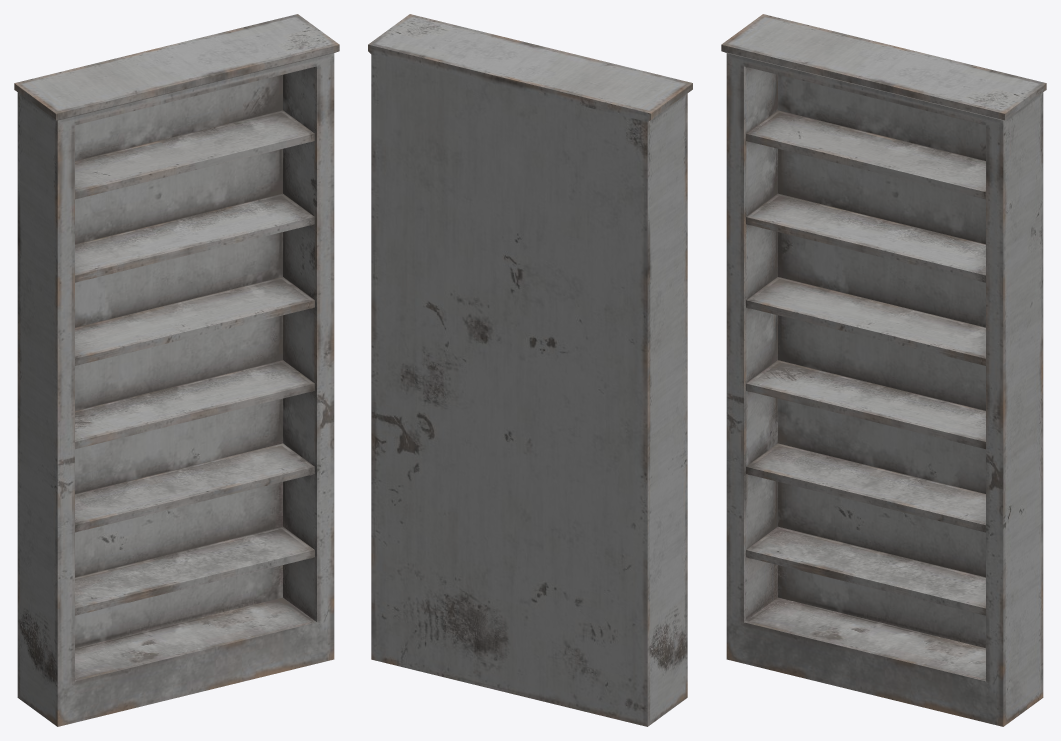
Rendered from Shelf_01.glb.
3 renders of one model, left to right at view 1: azimuth 30°, elevation 25°; view 2: azimuth 150°, elevation 25°; view 3: azimuth 330°, elevation 25°, orthographic.
Visible parts, largest first — view 1: Shelf_01; view 2: Shelf_01; view 3: Shelf_01.
Part boxes in pixels (x1,y1,x2,y2): Shelf_01: (14, 14, 339, 726); Shelf_01: (368, 14, 692, 726); Shelf_01: (721, 14, 1046, 726).
Size of the model in its own units: 1 by 2.08 by 0.257.
Materials: 1 (1 with a texture image).
